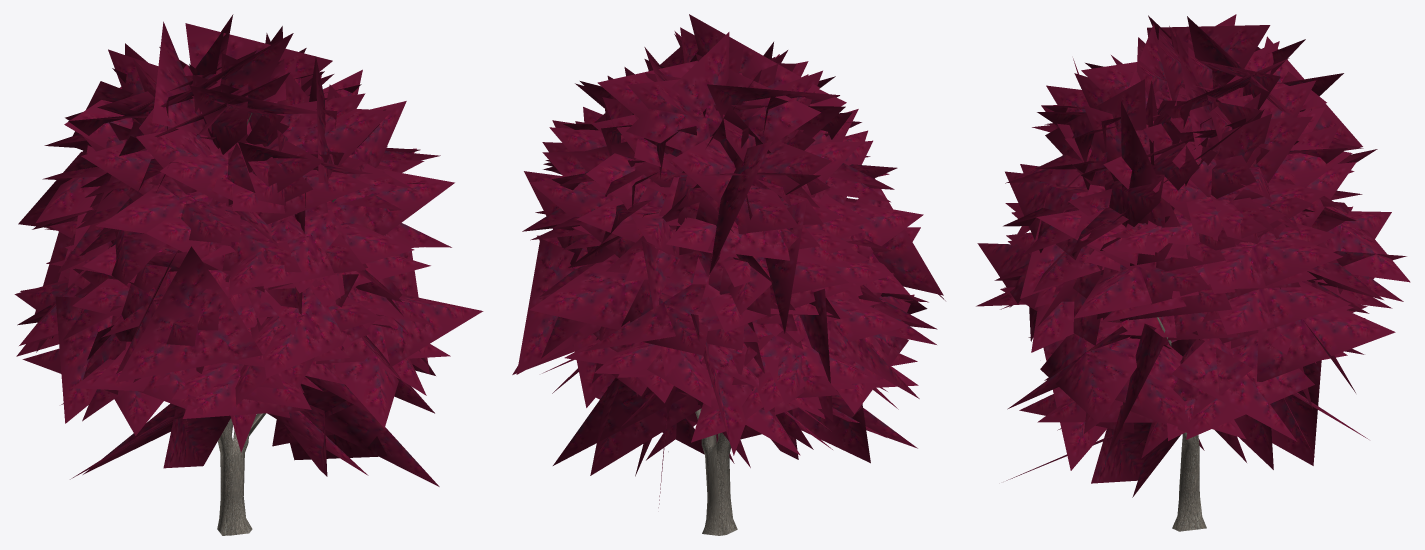
Rendered from Fraxinus_Americana_Autumn_Young.glb.
The picture shows the model from 3 angles, left to right: view 1: azimuth 30°, elevation 25°; view 2: azimuth 150°, elevation 25°; view 3: azimuth 270°, elevation 25°; orthographic projection.
Visible parts, largest first — view 1: Fraxinus_Americana_Autumn_Young__LOD3; view 2: Fraxinus_Americana_Autumn_Young__LOD3; view 3: Fraxinus_Americana_Autumn_Young__LOD3.
Boxes of the visible parts, x1,y1,x2,y2 form: Fraxinus_Americana_Autumn_Young__LOD3: (14, 14, 483, 535); Fraxinus_Americana_Autumn_Young__LOD3: (512, 14, 945, 535); Fraxinus_Americana_Autumn_Young__LOD3: (976, 14, 1410, 531).
Size of the model in its own units: 13.49 by 16.4 by 12.86.
2 materials, 2 textured.
